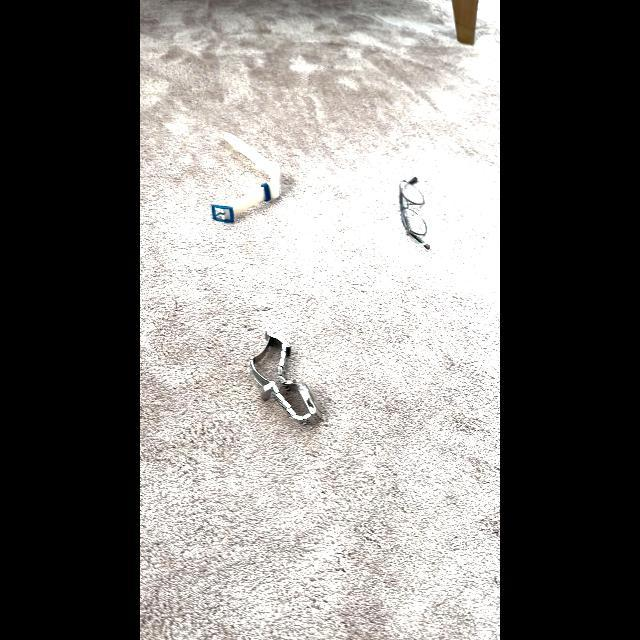eyewear: (393, 174, 439, 256)
